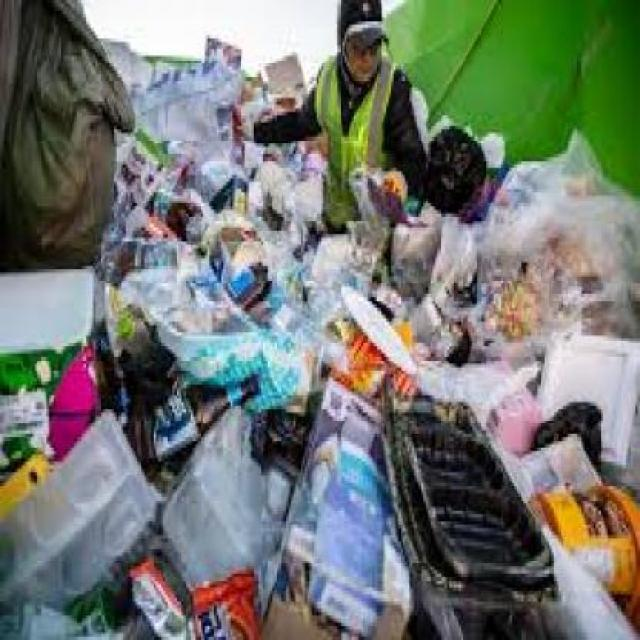garbage: (322, 228, 638, 637), (0, 343, 331, 637), (122, 52, 326, 448)
